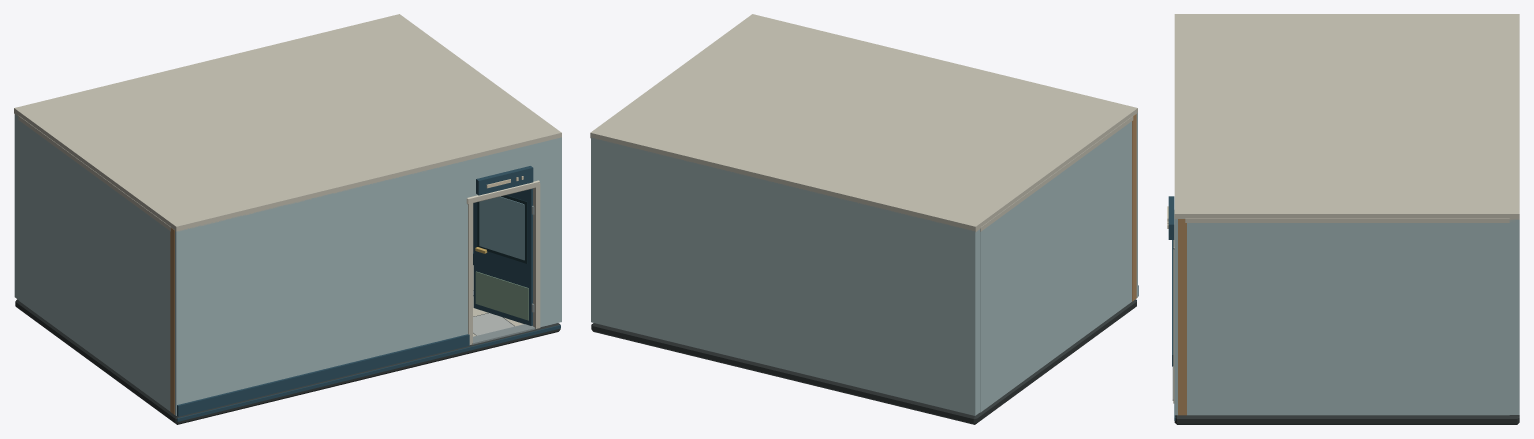
The model's file is restaurant-kitchen.glb.
3 renders of one model, left to right at view 1: azimuth 30°, elevation 25°; view 2: azimuth 150°, elevation 25°; view 3: azimuth 270°, elevation 25°, orthographic. The views are drawn at different scales.
Parts seen in each view (by area): view 1: cutaway_ceiling_room, cutaway_front_room, cutaway_side_left, room_architecture, intact_door; view 2: room_architecture, cutaway_ceiling_room, cutaway_side_left; view 3: cutaway_ceiling_room, cutaway_side_right, room_architecture, cutaway_front_room.
Part boxes in pixels (<box>): cutaway_ceiling_room: <box>14,14,561,231</box>; cutaway_front_room: <box>175,137,561,416</box>; cutaway_side_left: <box>18,115,174,414</box>; room_architecture: <box>14,114,560,424</box>; intact_door: <box>473,188,534,325</box>; room_architecture: <box>591,137,1136,424</box>; cutaway_ceiling_room: <box>590,14,1137,232</box>; cutaway_side_left: <box>980,114,1136,412</box>; cutaway_ceiling_room: <box>1174,14,1519,219</box>; cutaway_side_right: <box>1178,218,1509,415</box>; room_architecture: <box>1167,196,1519,424</box>; cutaway_front_room: <box>1172,219,1177,415</box>.
Size of what is drawn, in the model's own units: 6.65 by 3.28 by 4.94.
